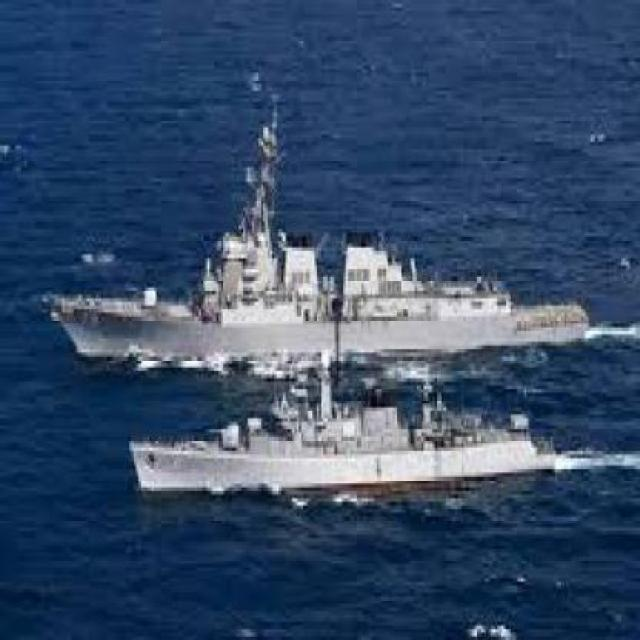warship2: (43, 169, 606, 375), (101, 369, 570, 513)
